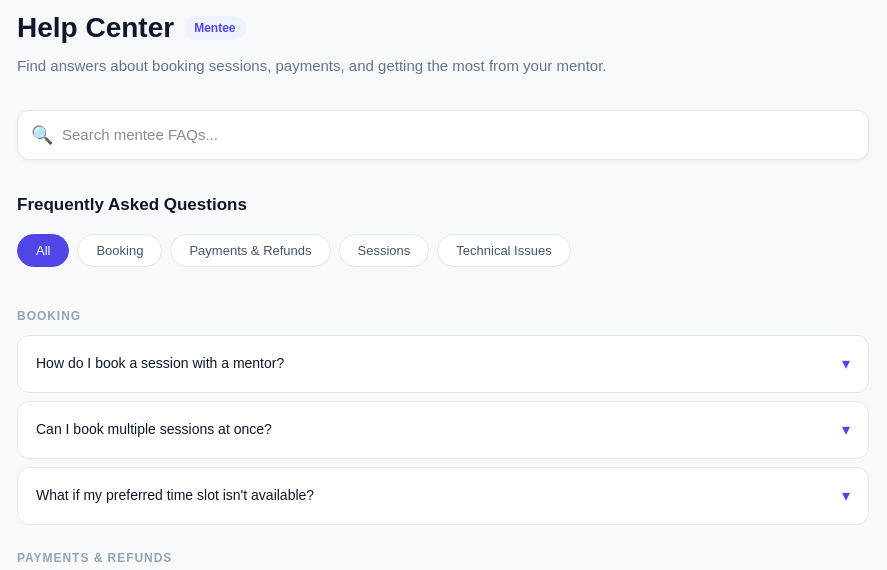
Test: HelpCenter Component Suite › should show the no-results state when search matches nothing
Step 1. Type "zzz_no_match_zzz" into the field with placeholder "Search mentee FAQs..." → (443, 135), box [17,110,869,160]
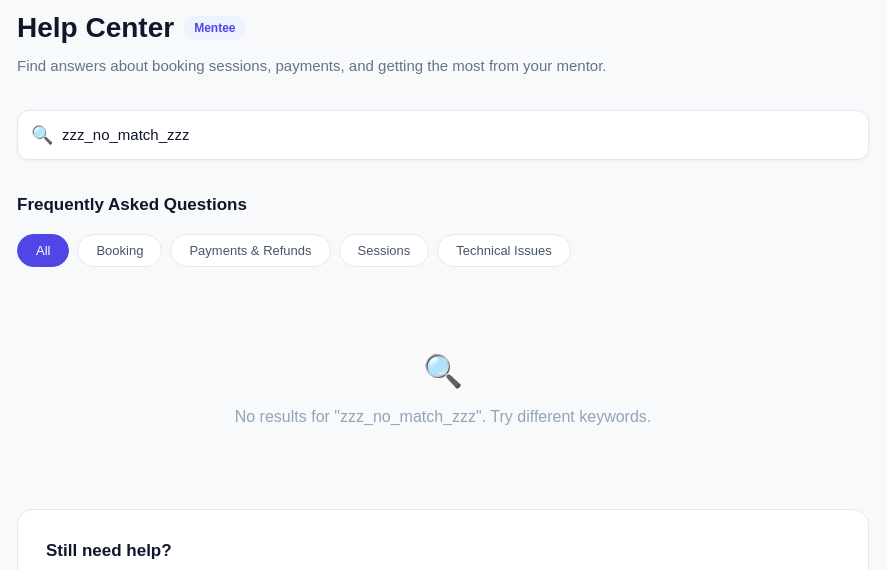
Result: the text "No results for \"zzz_no_match_zzz\". Try different keywords." is shown at [235,408,651,425]
